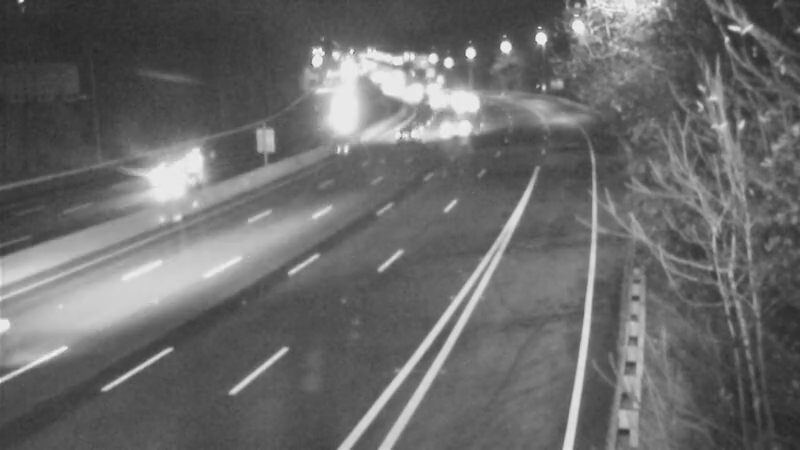vehicle: (128, 136, 208, 216), (159, 125, 239, 205), (409, 62, 459, 112), (385, 74, 435, 124), (414, 78, 464, 128), (437, 78, 487, 128), (430, 105, 480, 155), (386, 104, 436, 154)
